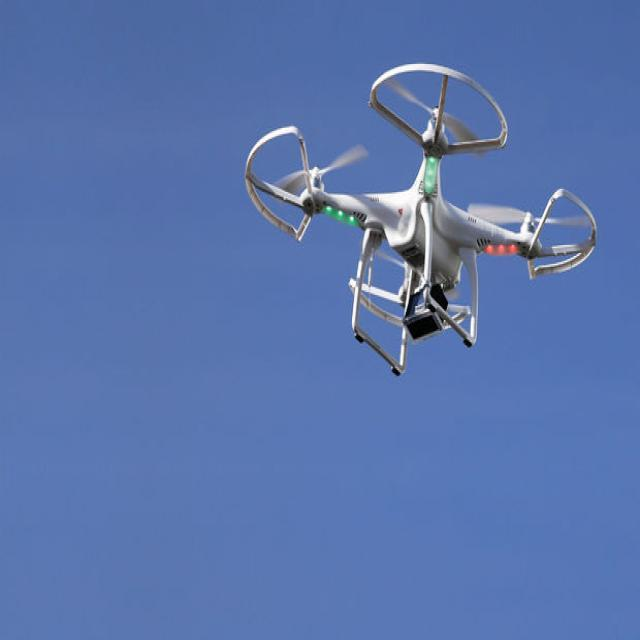drones: (218, 66, 612, 422)
